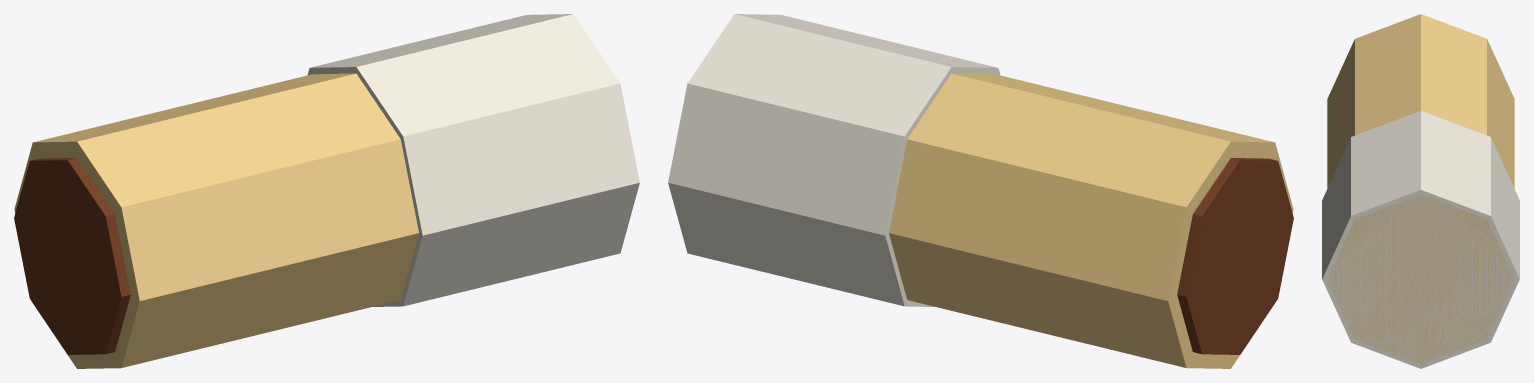
Rendered from burrito.glb.
3 views of the same model, side by side, from view 1: azimuth 30°, elevation 25°; view 2: azimuth 150°, elevation 25°; view 3: azimuth 270°, elevation 25° (orthographic). The views are drawn at different scales.
Parts seen in each view (by area): view 1: burrito; view 2: burrito; view 3: burrito.
Part boxes in pixels (<box>): burrito: <box>14,14,639,368</box>; burrito: <box>668,14,1293,368</box>; burrito: <box>1322,14,1519,368</box>.
Size of the model in its own units: 0.163 by 0.074 by 0.074.
